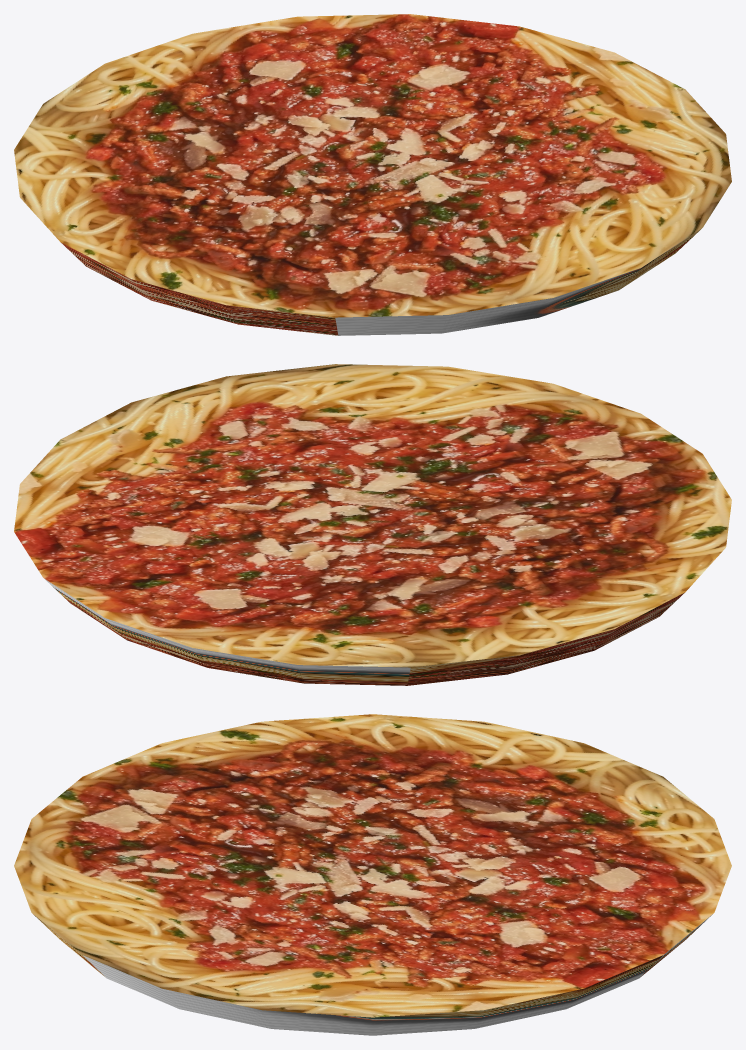
File: BologneseInPan.fbx
3 renders of one model, top to bottom at view 1: azimuth 30°, elevation 25°; view 2: azimuth 150°, elevation 25°; view 3: azimuth 270°, elevation 25°, orthographic.
Visible parts, largest first — view 1: pCylinder1; view 2: pCylinder1; view 3: pCylinder1.
Part boxes in pixels (x1,y1,x2,y2): pCylinder1: (14, 14, 731, 335); pCylinder1: (14, 364, 731, 685); pCylinder1: (14, 714, 731, 1035).
Bounding box in the file's own units: 10.23 × 0.4834 × 10.23.
